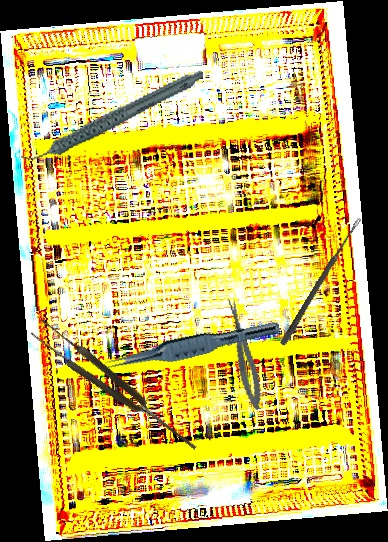Handpiece: (10, 67, 214, 165)
Micro Scissor: (224, 296, 266, 412)
Surgical Spoon: (279, 216, 363, 347)
Tissue Forceps: (28, 315, 203, 460), (103, 311, 281, 380)
